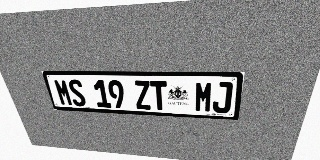1: (92, 80, 112, 108)
9: (107, 80, 126, 108)
J: (212, 82, 233, 113)
M: (195, 81, 214, 113), (53, 79, 74, 106)
S: (67, 79, 87, 107)
T: (150, 81, 168, 110)
Z: (133, 80, 152, 110)
